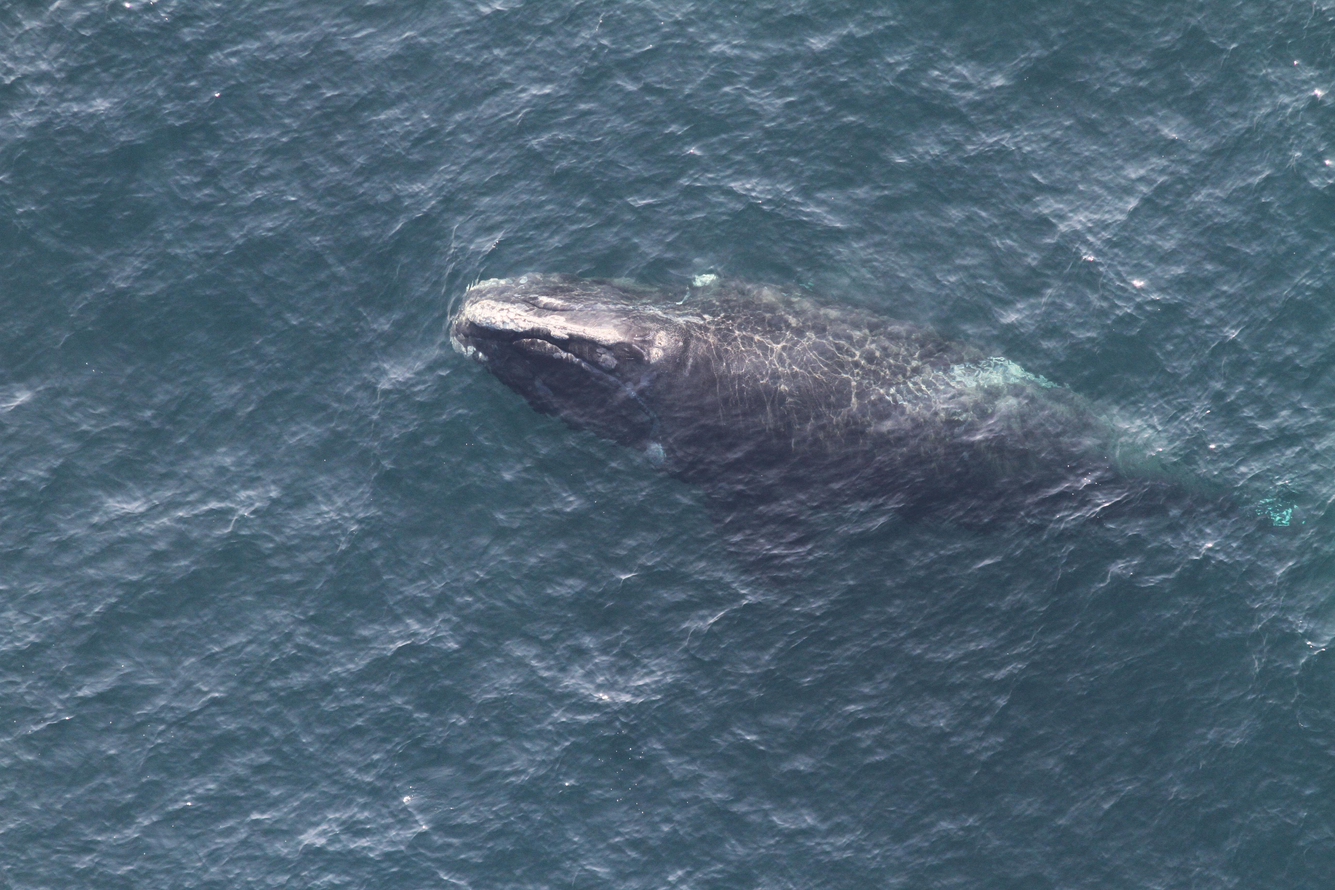whale: (442, 252, 1325, 541)
